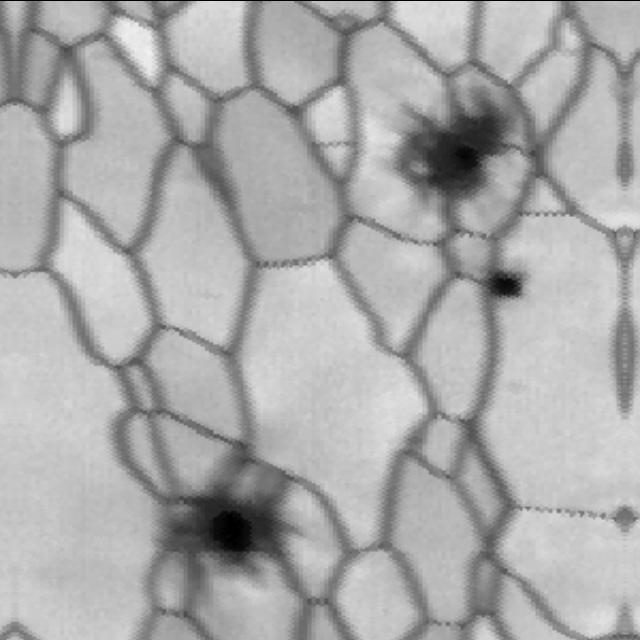good_void: (150, 444, 292, 593), (376, 75, 526, 216), (489, 262, 535, 301)
